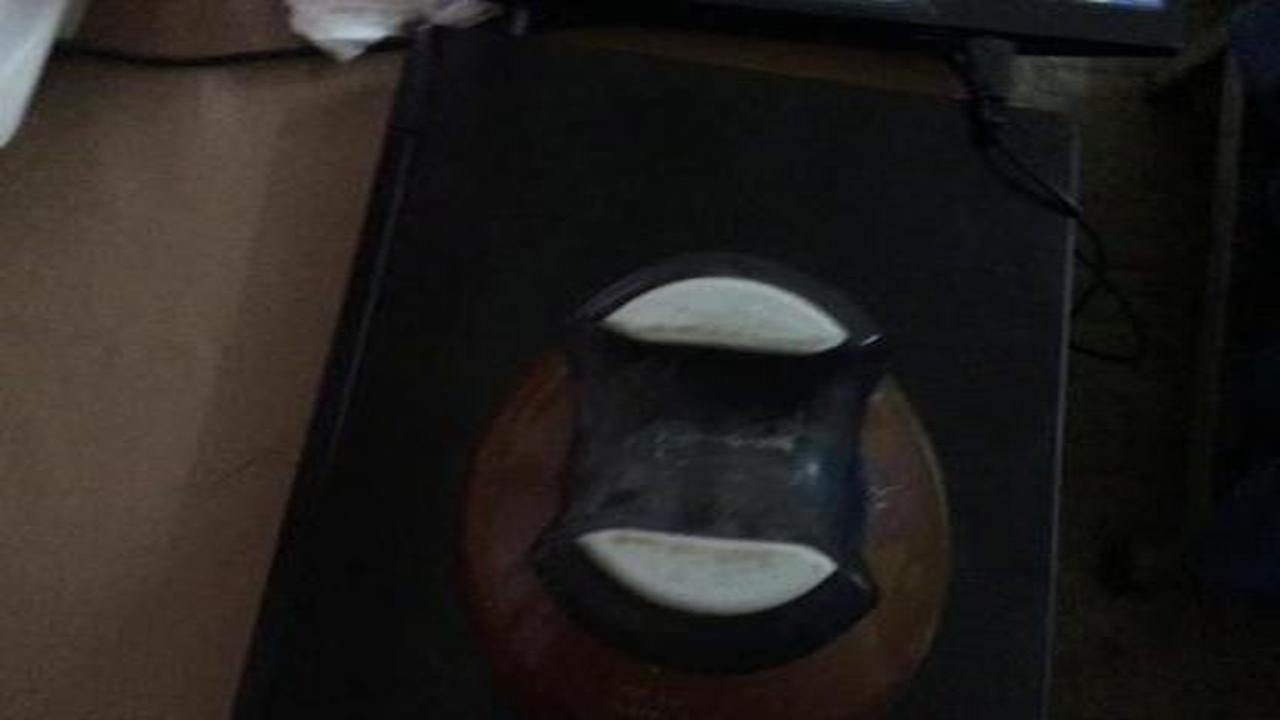insulator_pin: (425, 255, 988, 712)
